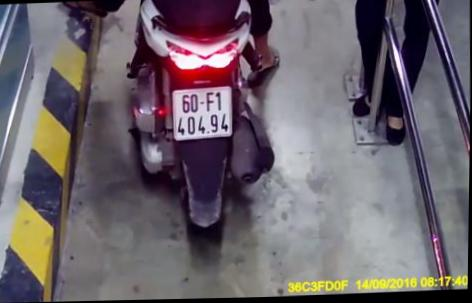LP: (171, 84, 233, 142)
